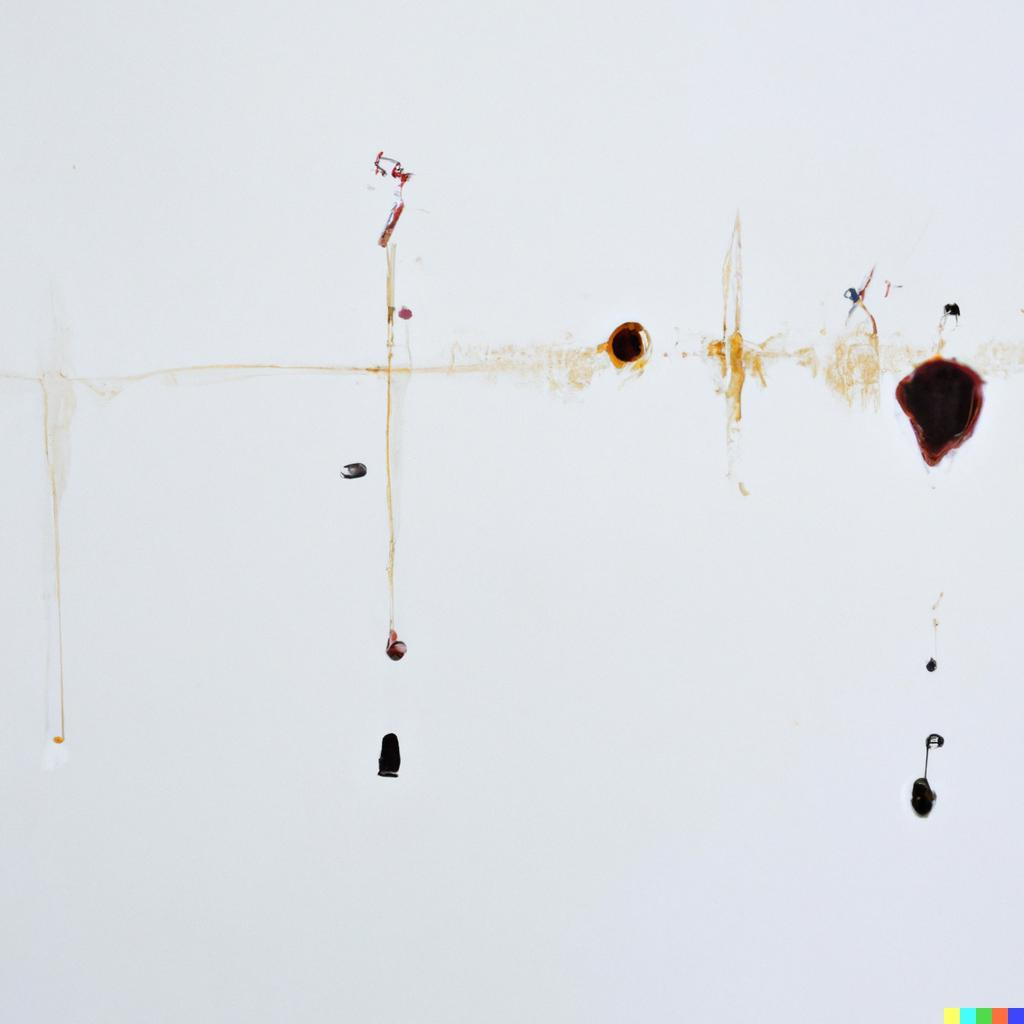Fire: (895, 353, 987, 466)
